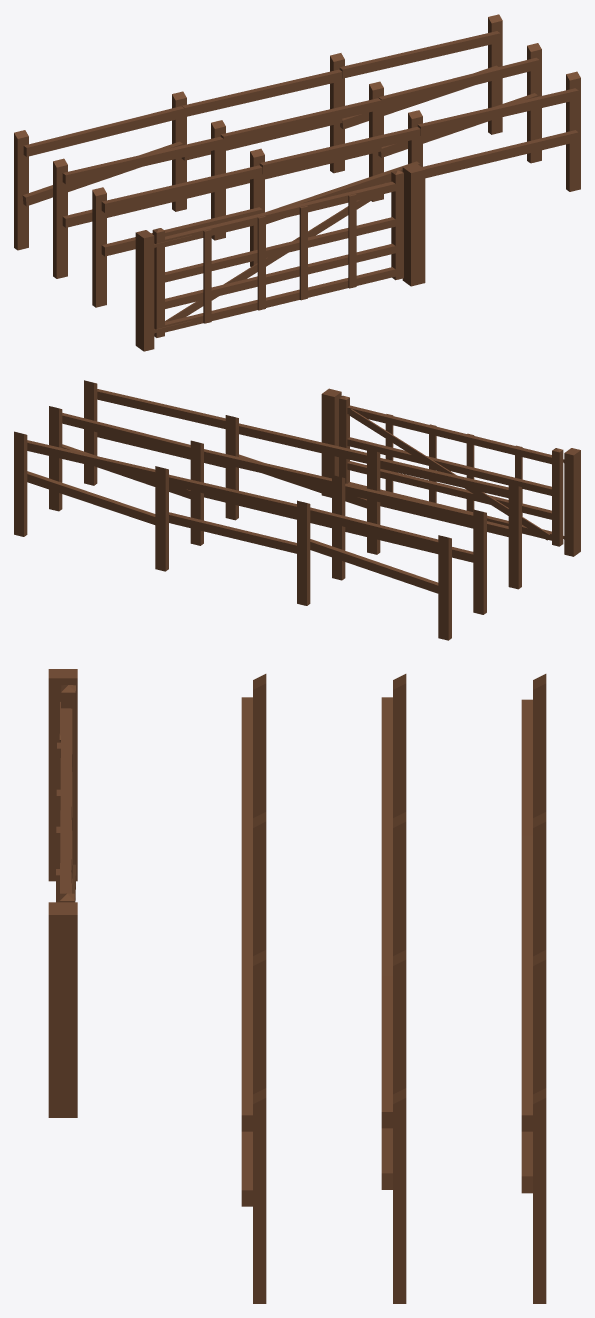
File: farm_fences (2).fbx
3 views of the same model, one above another, from view 1: azimuth 30°, elevation 25°; view 2: azimuth 150°, elevation 25°; view 3: azimuth 270°, elevation 25° (orthographic). The views are drawn at different scales.
Parts seen in each view (by area): view 1: gate, fence5.005, fence5.002, fence5, gatepost; view 2: fence5, fence5.002, fence5.005, gate, gatepost; view 3: fence5.005, fence5, fence5.002, gatepost, gate.
Part boxes in pixels (left/top/right/bottom): gate: left=152, top=170, right=403, bottom=337; fence5.005: left=92, top=71, right=580, bottom=307; fence5.002: left=53, top=43, right=541, bottom=278; fence5: left=14, top=14, right=502, bottom=250; gatepost: left=135, top=164, right=425, bottom=351; fence5: left=14, top=431, right=451, bottom=640; fence5.002: left=49, top=406, right=486, bottom=614; fence5.005: left=84, top=380, right=521, bottom=589; gate: left=339, top=395, right=564, bottom=546; gatepost: left=321, top=388, right=580, bottom=556; fence5.005: left=241, top=674, right=266, bottom=1303; fence5: left=521, top=674, right=546, bottom=1303; fence5.002: left=381, top=674, right=406, bottom=1303; gatepost: left=48, top=669, right=77, bottom=1117; gate: left=56, top=685, right=75, bottom=902.
Bounding box in the file's own units: 2190 × 488 × 1066.
